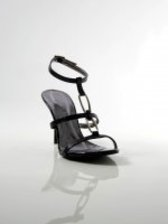shoes: (38, 54, 123, 161)
